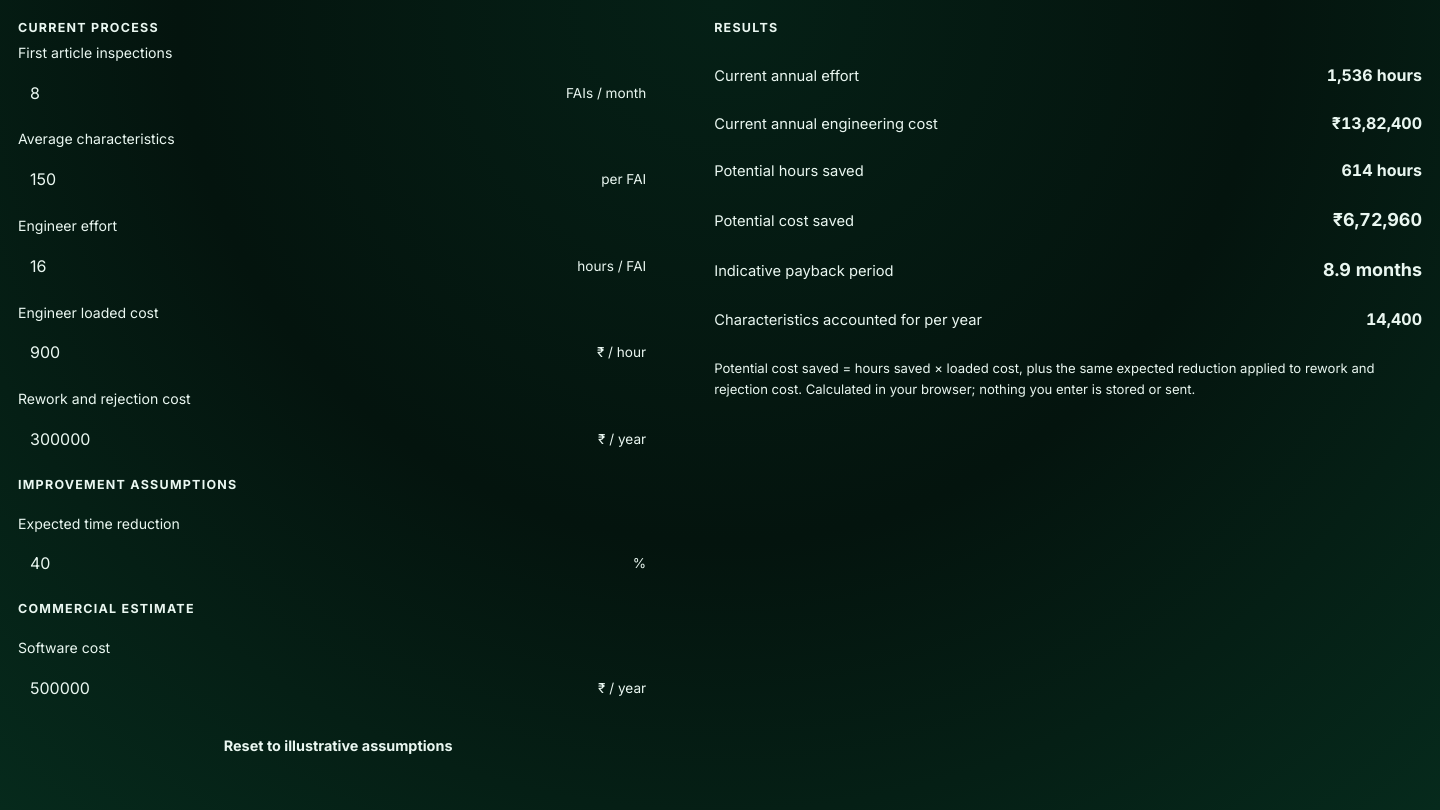
RoiCalculator › starts from labelled defaults and recalculates as values change
The image size is (1440, 810).
Replace the text in the number field labelled "First article inspections" with "16" at (286,94), box [18,70,554,116]
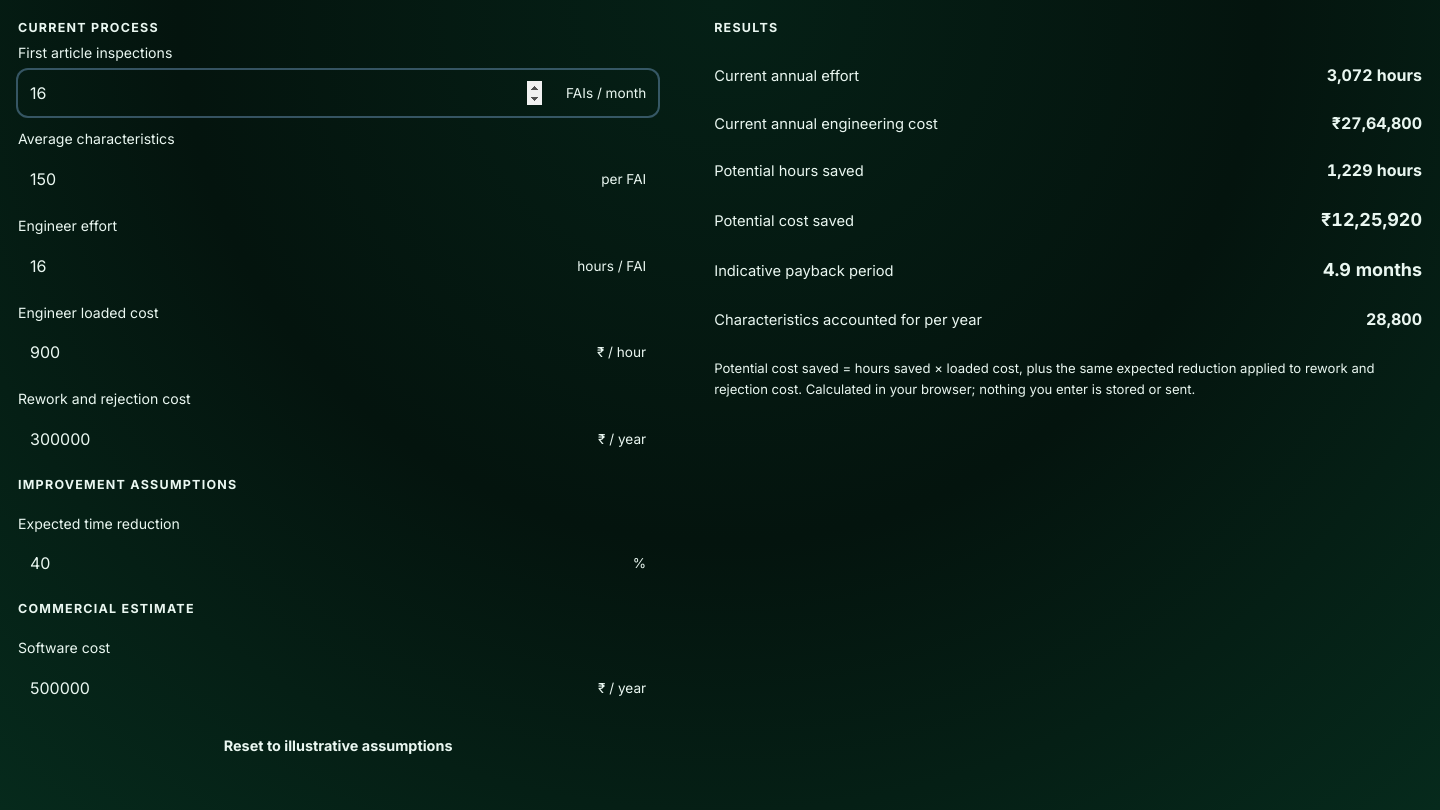
Result: the text "3,072 hours" is shown at [1327,63,1422,89]
Click the button "Reset to illustrative assumptions" at (338,746), box [18,724,658,768]
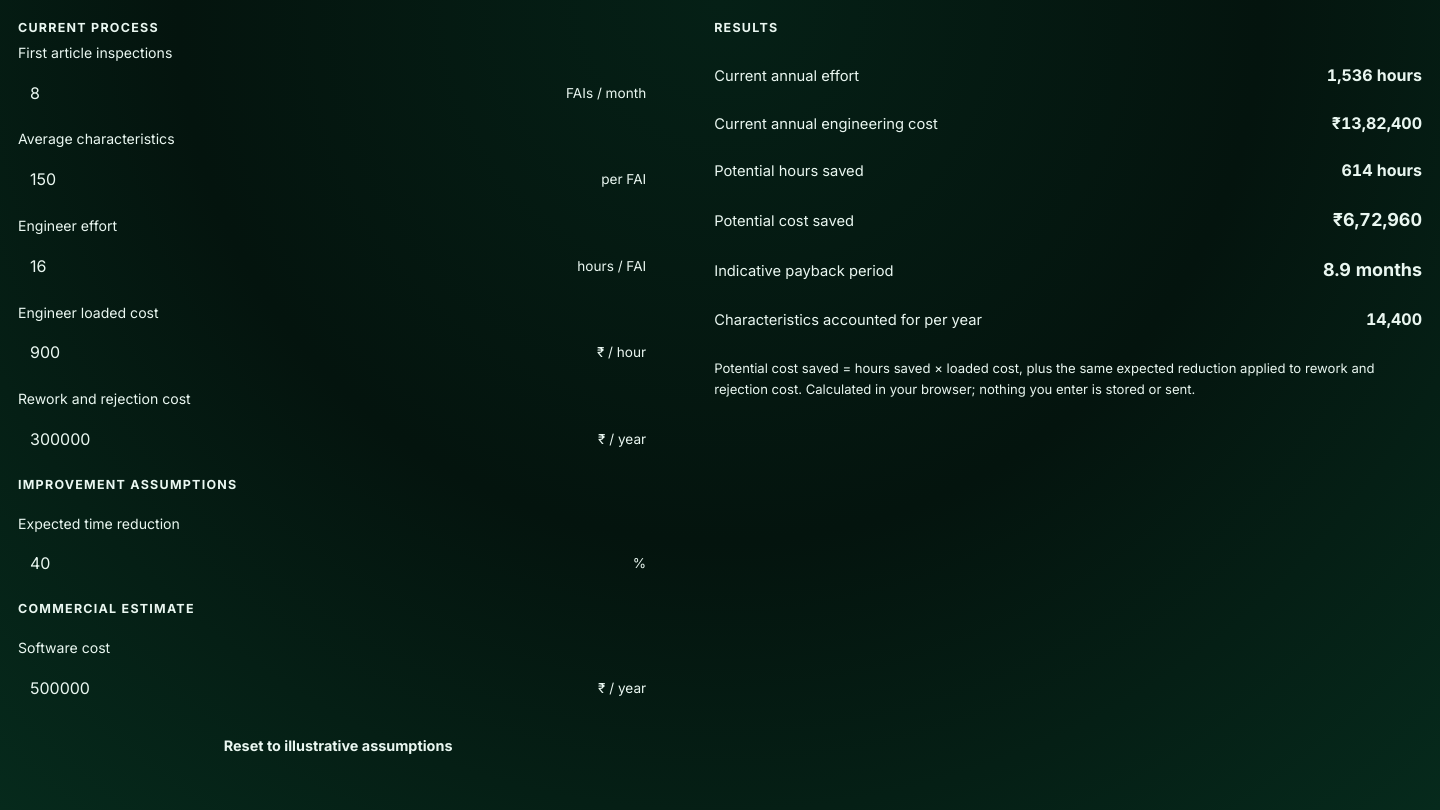
Result: the number field labelled "First article inspections" holds "8" at [18,70,554,116]
Result: the text "1,536 hours" is shown at [1327,63,1422,89]
